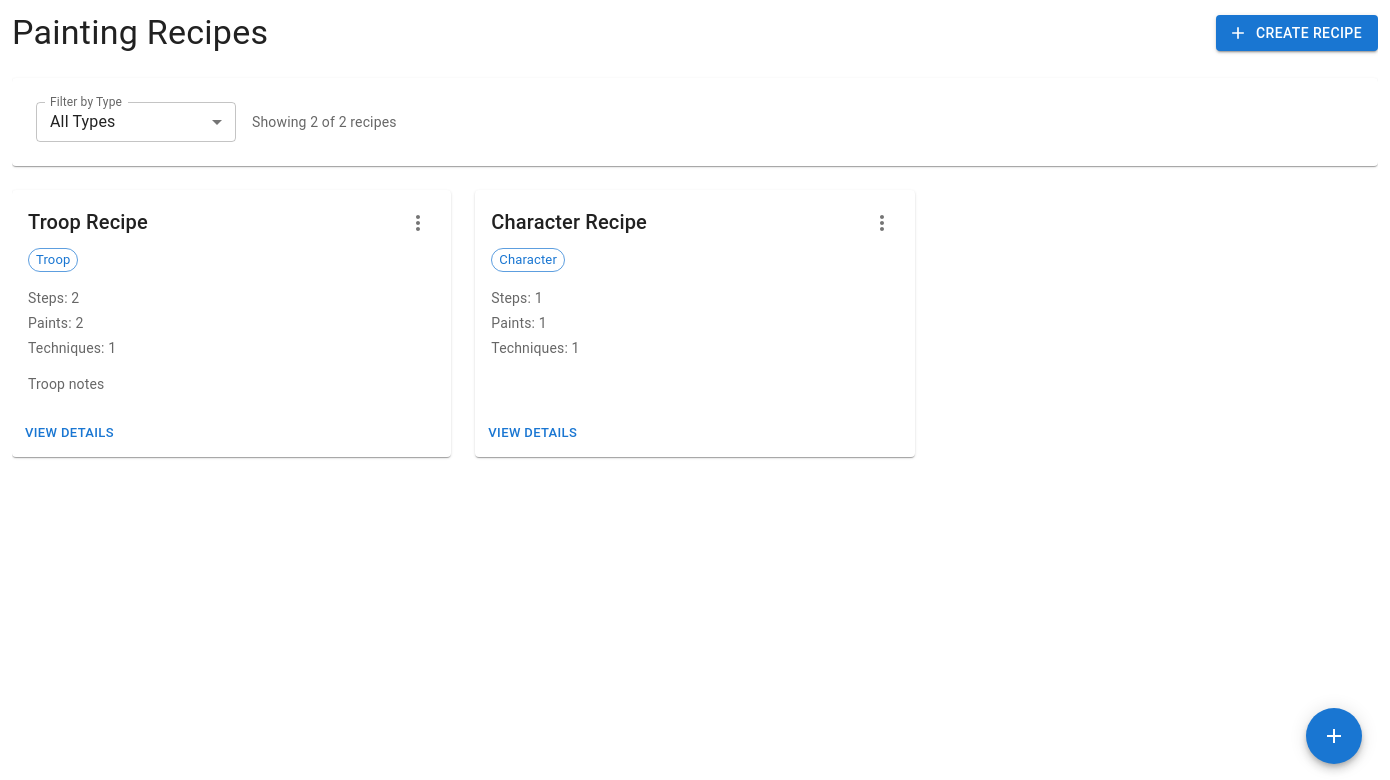
RecipeList › shows filtered empty state
Note: Filter by Character (only 1 character recipe)
Click the dropdown named "Filter by Type": (83, 122) [50, 112, 116, 132]
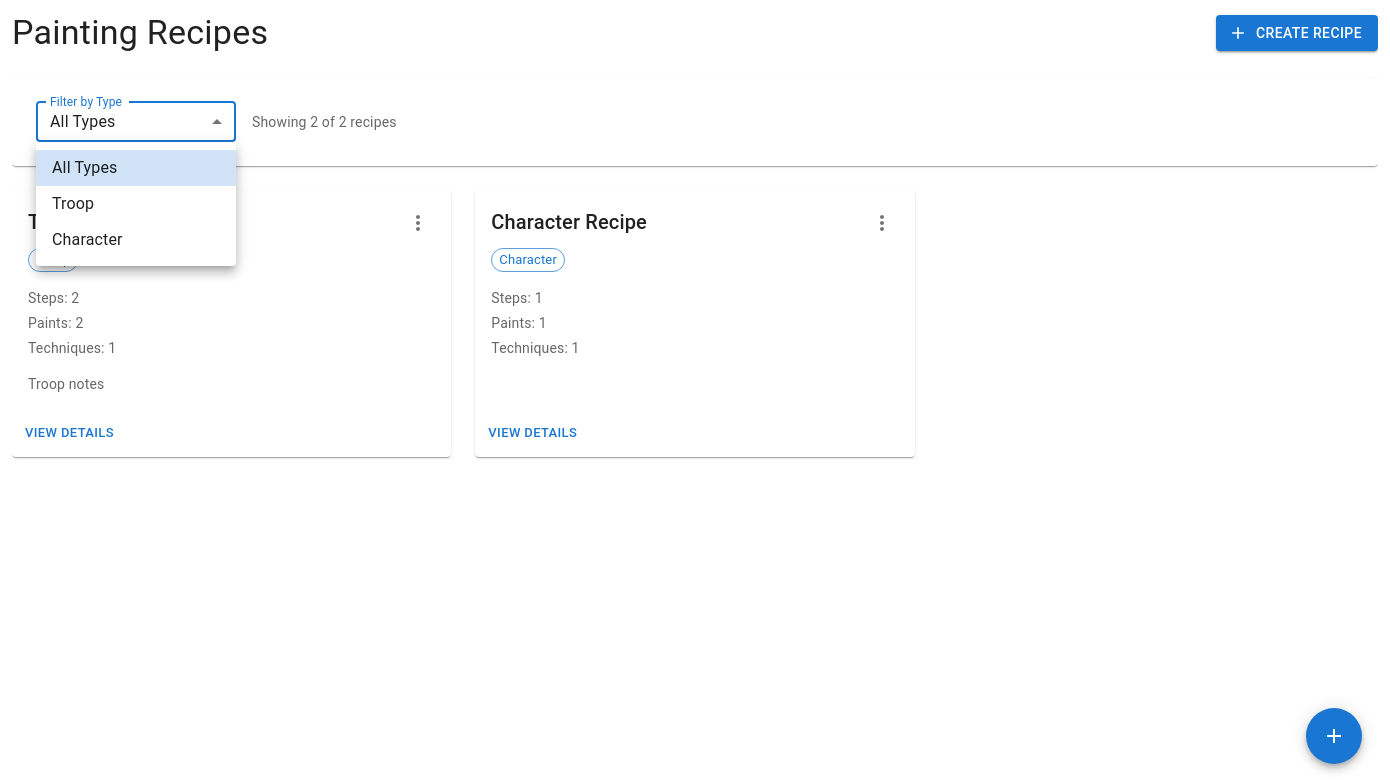
Click the option "Character": (87, 240) [52, 230, 123, 249]
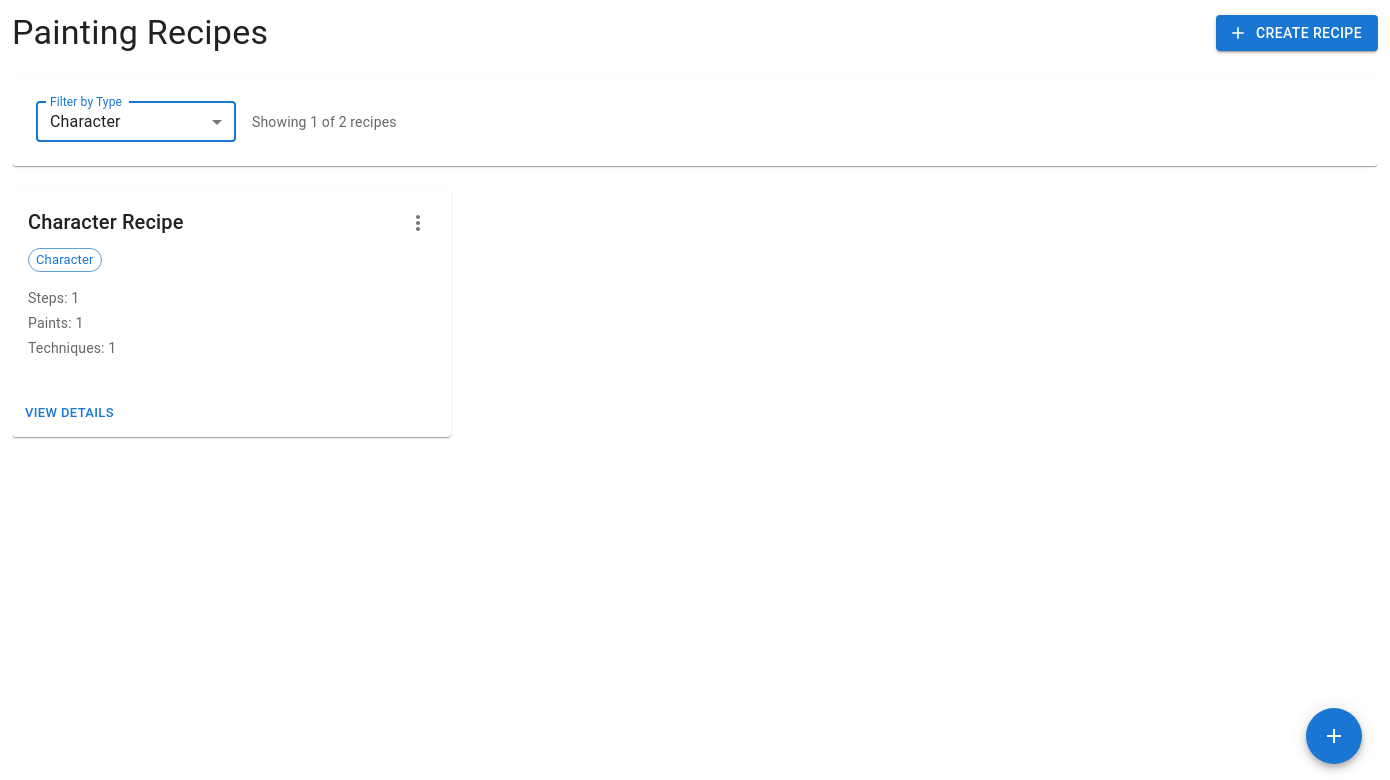
Expected: the text "Filter by Type" is shown, [50, 93, 122, 110]
Expected: the text "Showing 1 of 2 recipes" is shown, [252, 112, 397, 132]
